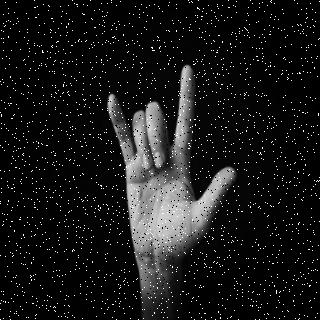I Love You: (96, 60, 252, 261)
